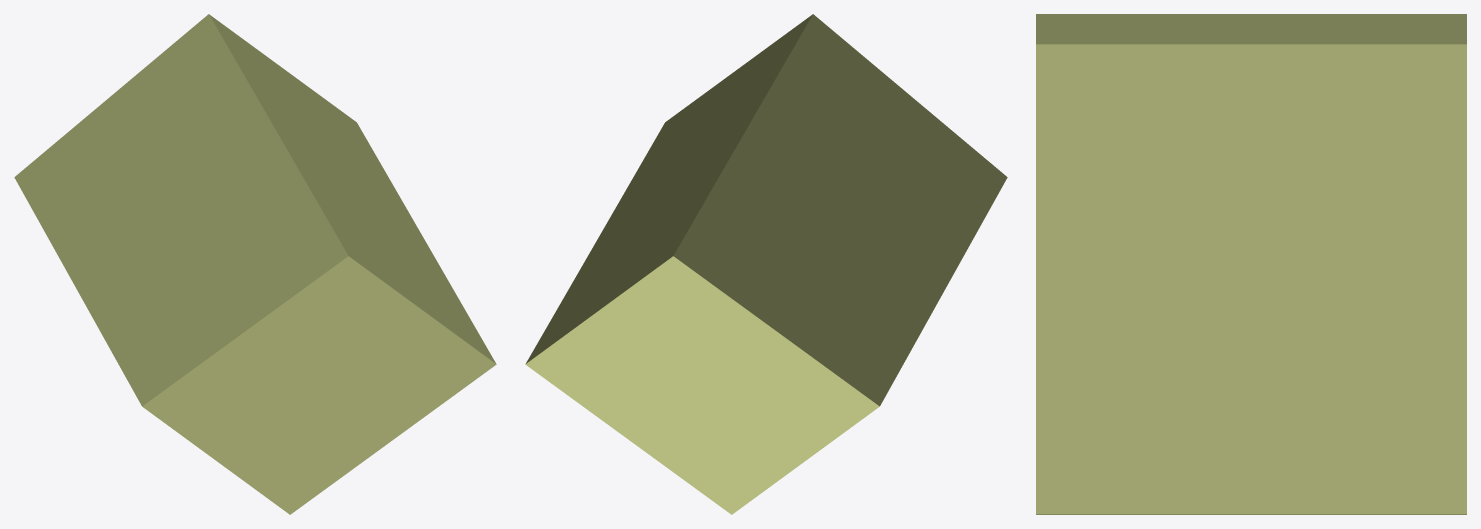
3 renders of one model, left to right at view 1: azimuth 30°, elevation 25°; view 2: azimuth 150°, elevation 25°; view 3: azimuth 270°, elevation 25°, orthographic. The views are drawn at different scales.
Parts seen in each view (by area): view 1: 0_1_0_2_0_0_1_3_3_3_0; view 2: 0_1_0_2_0_0_1_3_3_3_0; view 3: 0_1_0_2_0_0_1_3_3_3_0.
Part boxes in pixels (left/top/right/bottom): 0_1_0_2_0_0_1_3_3_3_0: left=14, top=14, right=496, bottom=514; 0_1_0_2_0_0_1_3_3_3_0: left=525, top=14, right=1007, bottom=514; 0_1_0_2_0_0_1_3_3_3_0: left=1036, top=14, right=1466, bottom=514.
Bounding box in the file's own units: 7.82 × 8.41 × 6.
